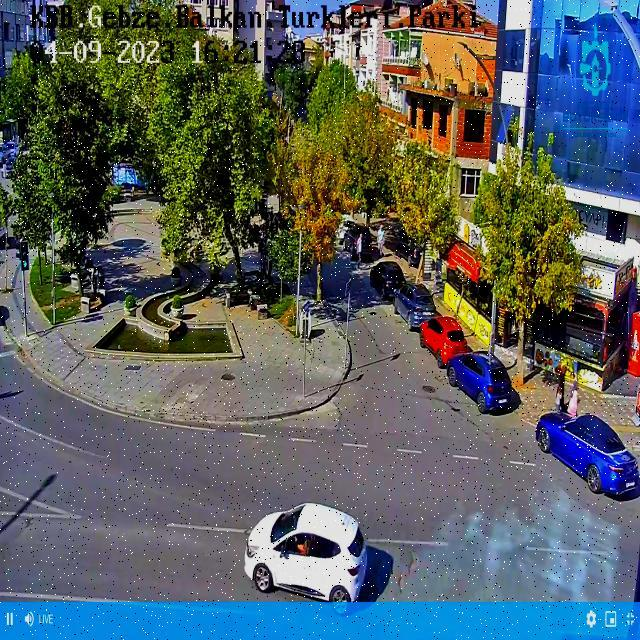car: (244, 502, 369, 601), (535, 412, 640, 494), (446, 352, 520, 413), (420, 316, 470, 368), (394, 284, 439, 329), (370, 261, 405, 299)
